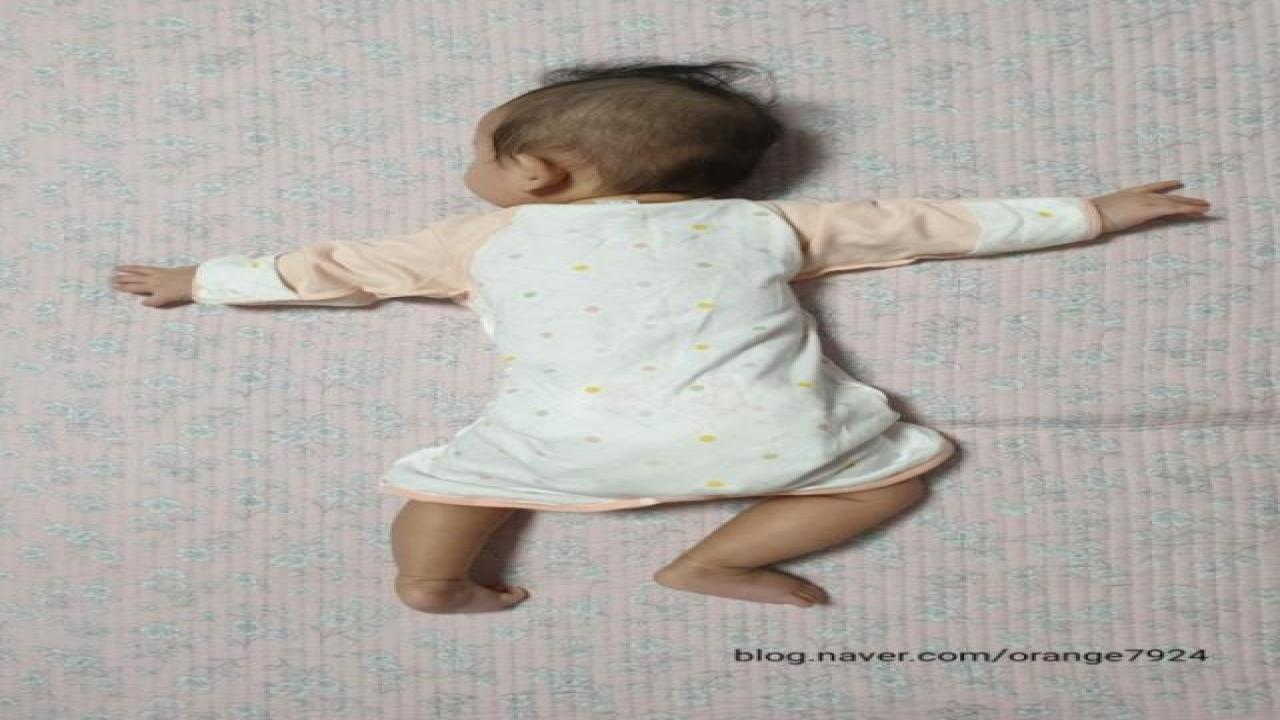hand: (1092, 179, 1210, 235), (111, 262, 198, 311)
